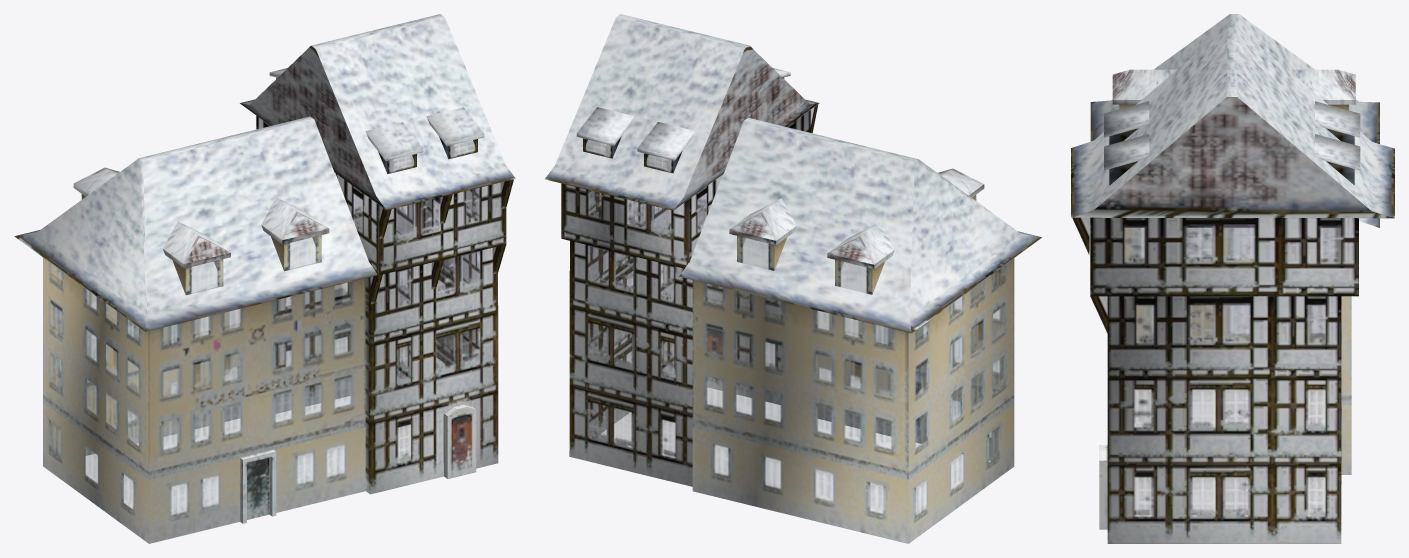
File: Civilian - Residential Building - German Town House 2 - Snow - CBTownHs02_s.glb
The picture shows the model from 3 angles, left to right: view 1: azimuth 30°, elevation 25°; view 2: azimuth 150°, elevation 25°; view 3: azimuth 270°, elevation 25°; orthographic projection. The views are drawn at different scales.
Parts seen in each view (by area): view 1: CBTOWNHS02_S; view 2: CBTOWNHS02_S; view 3: CBTOWNHS02_S.
Boxes of the visible parts, bbox=[...] form: CBTOWNHS02_S: bbox=[14, 14, 515, 543]; CBTOWNHS02_S: bbox=[545, 14, 1041, 543]; CBTOWNHS02_S: bbox=[1071, 14, 1394, 543].
Size of the model in its own units: 56.15 by 60.25 by 39.54.
Materials: 1 (1 with a texture image).
